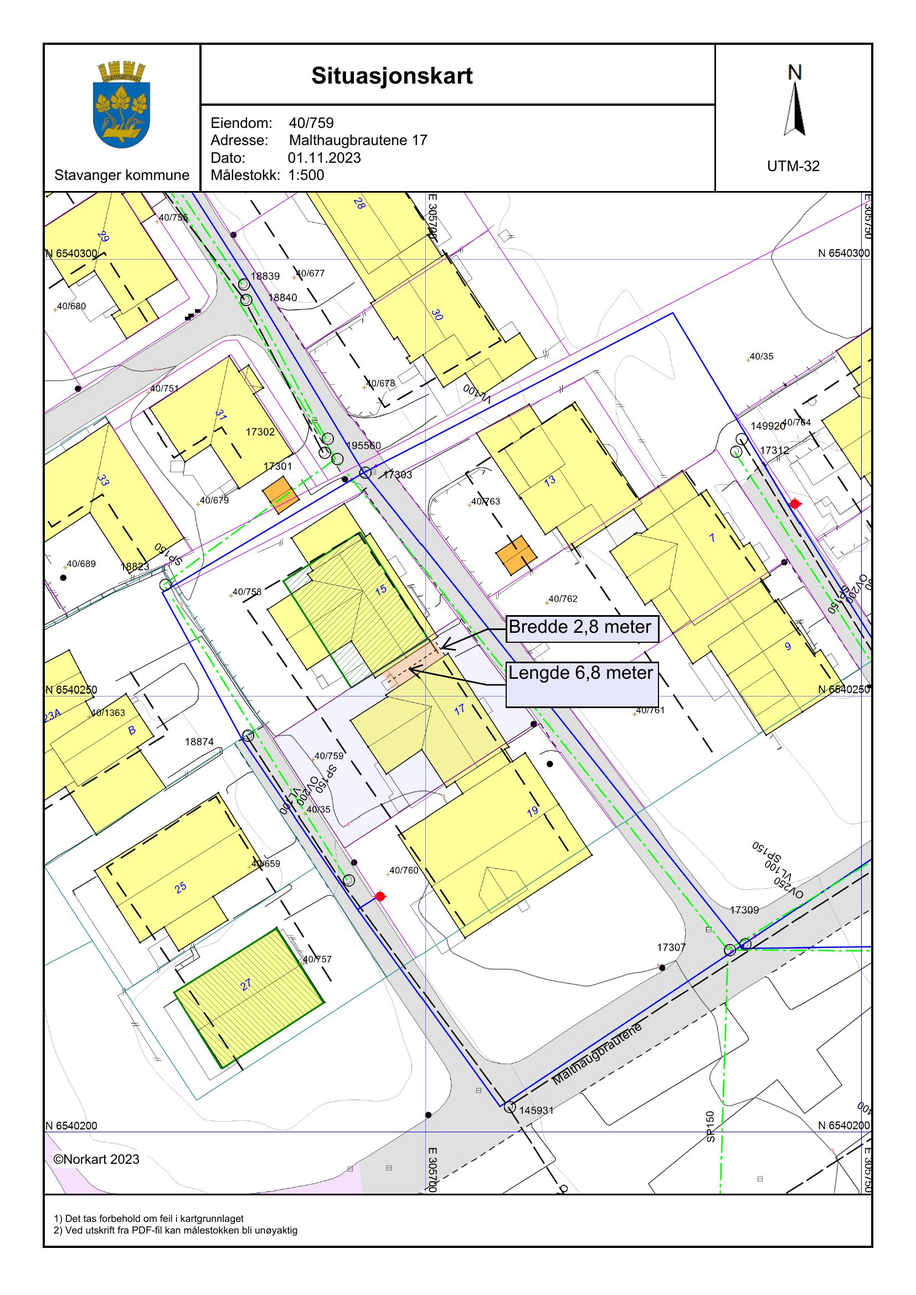situasjonskart: (47, 192, 871, 1191)
